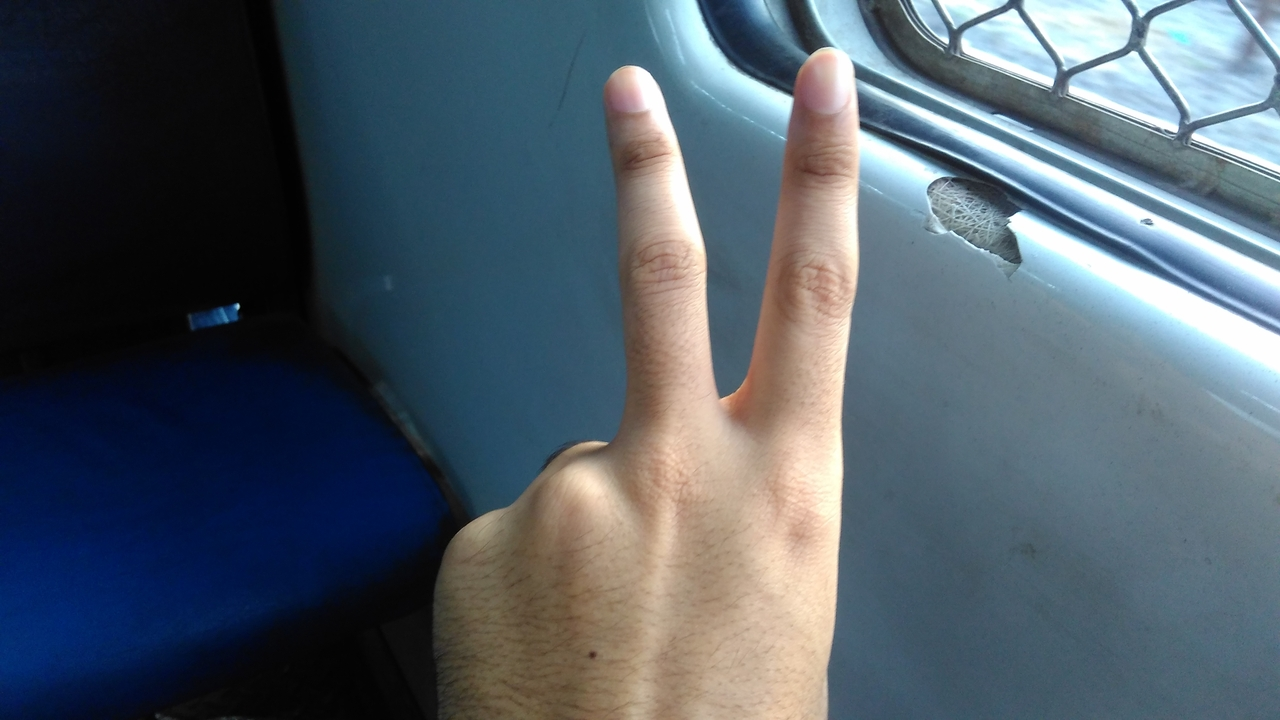fingertip: (796, 42, 864, 114), (600, 58, 666, 122)
